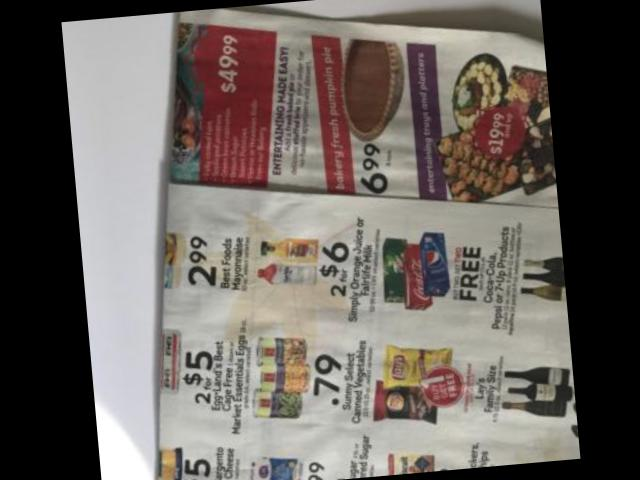cardboard paper: (154, 10, 580, 480)
